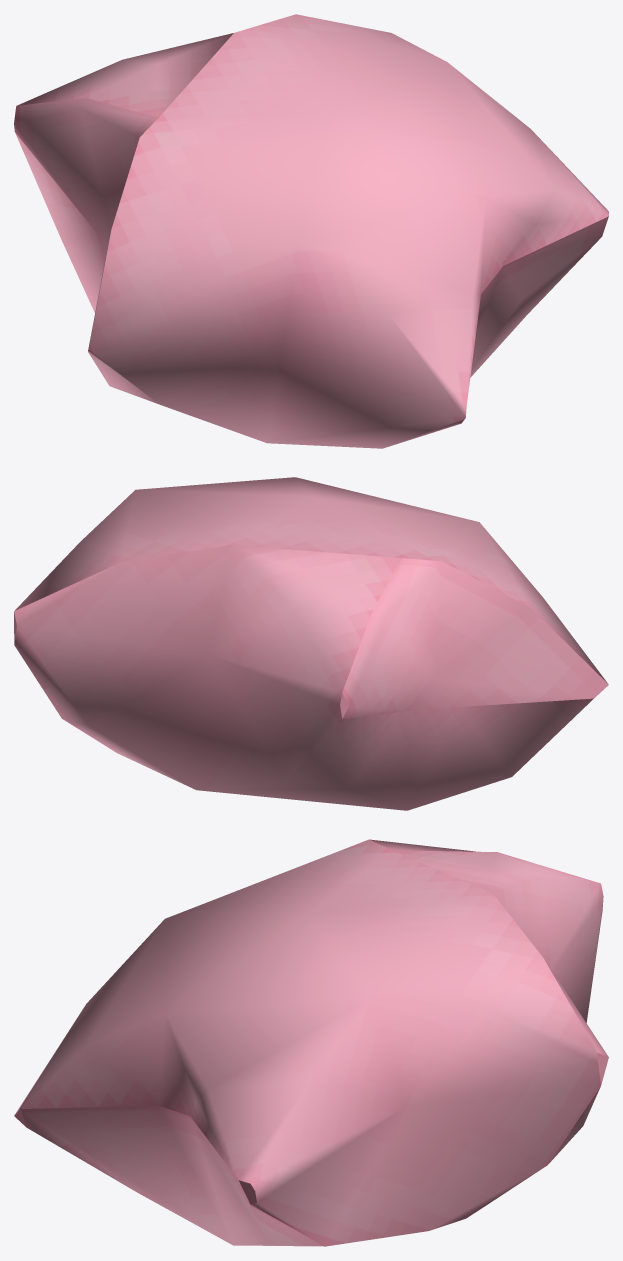
The model's file is ref_gtpaperstar.glb.
The picture shows the model from 3 angles, top to bottom: view 1: azimuth 30°, elevation 25°; view 2: azimuth 150°, elevation 25°; view 3: azimuth 270°, elevation 25°; orthographic projection. The views are drawn at different scales.
Visible parts, largest first — view 1: ref_gtpaperstar; view 2: ref_gtpaperstar; view 3: ref_gtpaperstar.
Boxes of the visible parts, x1,y1,x2,y2 form: ref_gtpaperstar: (14, 14, 608, 448); ref_gtpaperstar: (14, 477, 608, 810); ref_gtpaperstar: (14, 839, 608, 1246).
Size of the model in its own units: 1 by 0.547 by 0.9554.
1 material, 1 textured.
